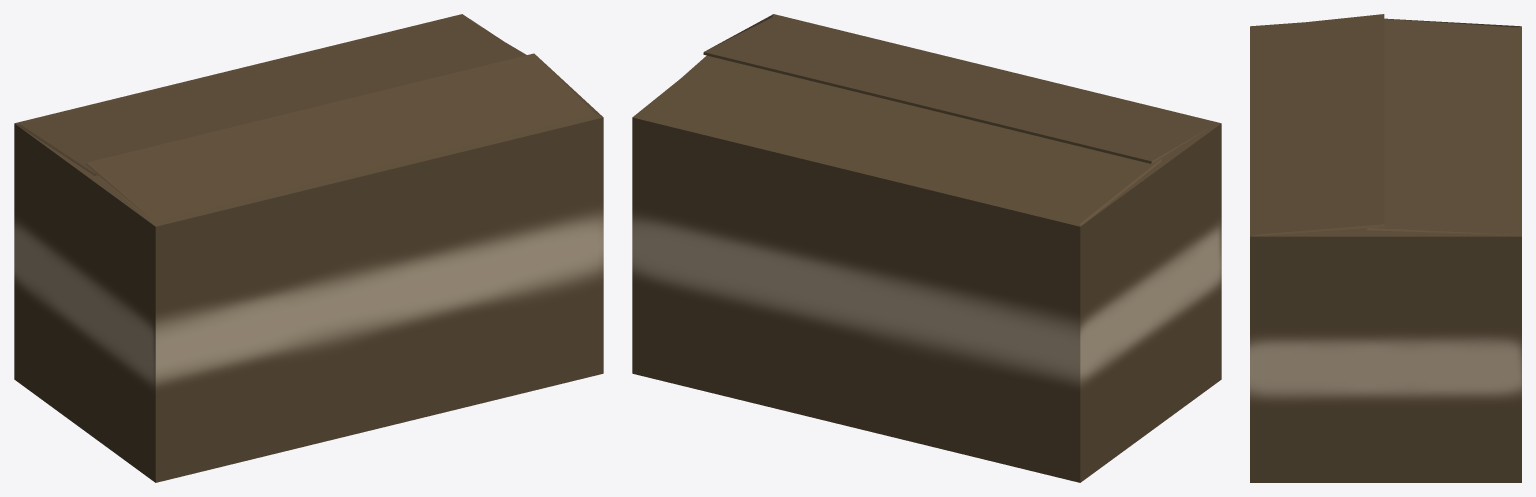
The picture shows the model from 3 angles, left to right: view 1: azimuth 30°, elevation 25°; view 2: azimuth 150°, elevation 25°; view 3: azimuth 270°, elevation 25°; orthographic projection. The views are drawn at different scales.
Parts seen in each view (by area): view 1: Box; view 2: Box; view 3: Box.
Boxes of the visible parts, bbox=[...] form: Box: bbox=[14, 14, 603, 482]; Box: bbox=[632, 14, 1221, 482]; Box: bbox=[1250, 14, 1521, 482].
Bounding box in the file's own units: 176 × 101 × 95.84.
1 material, 1 textured.
